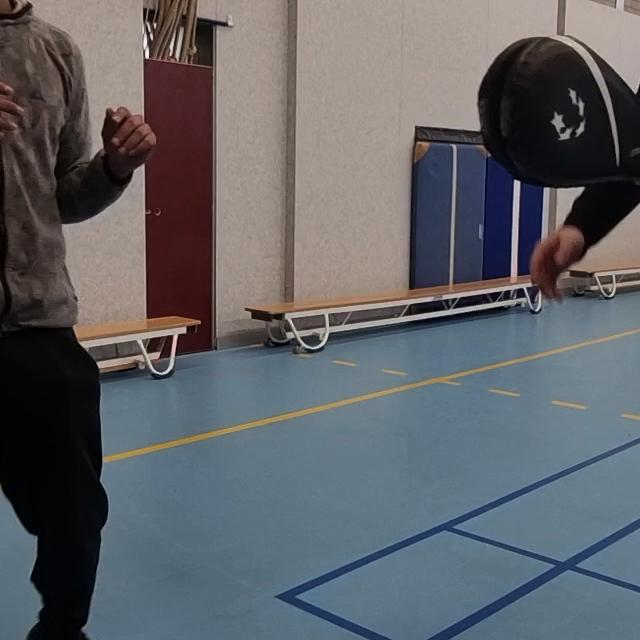paddle: (479, 28, 640, 190)
